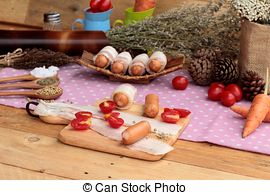bacon: (151, 48, 165, 67)
